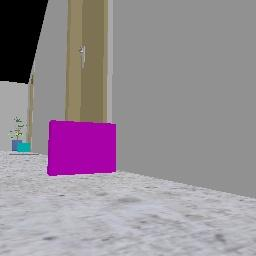mov: (48, 120, 116, 175)
turcoaz: (17, 143, 30, 151)
